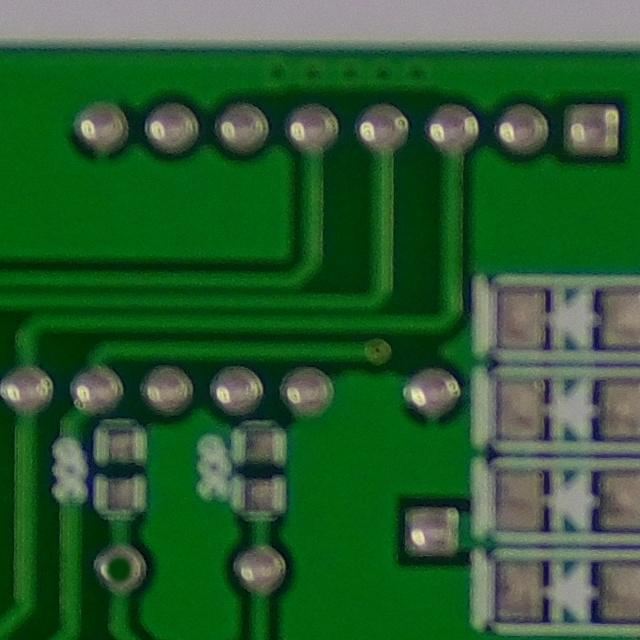missing_hole: (92, 540, 152, 599)
